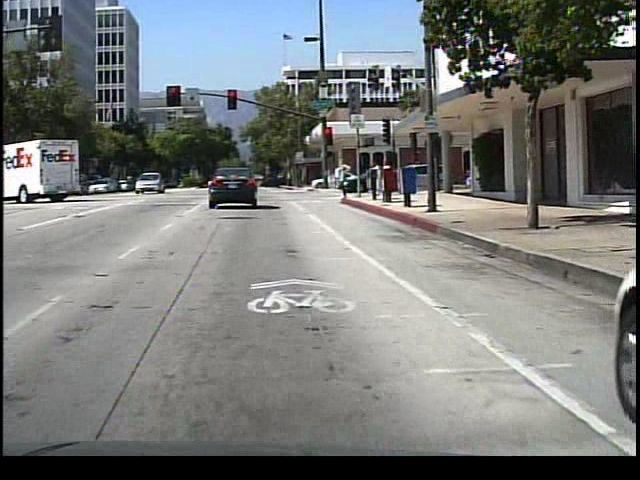person: (333, 152, 356, 203)
